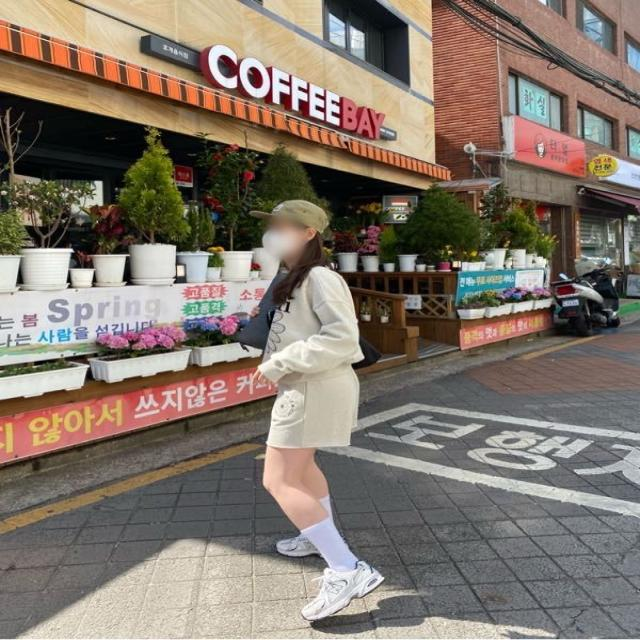mtm: (260, 265, 365, 381)
shortpants: (262, 364, 358, 447)
